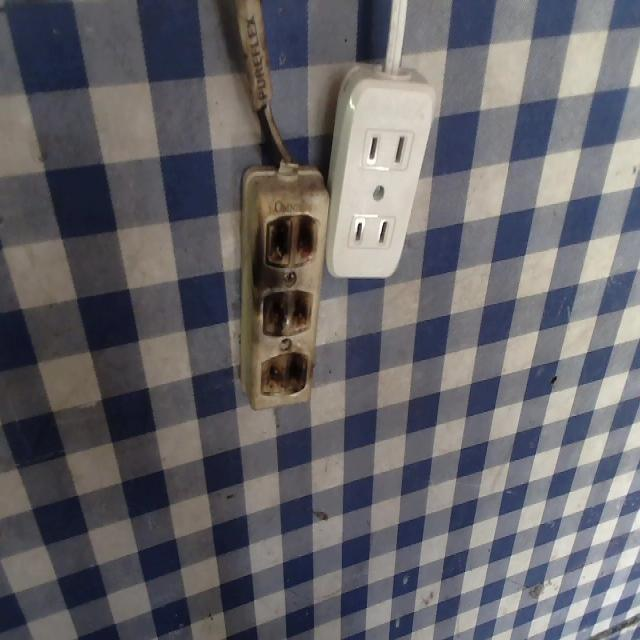-: (266, 212, 317, 272), (257, 289, 312, 343), (259, 348, 316, 399)
